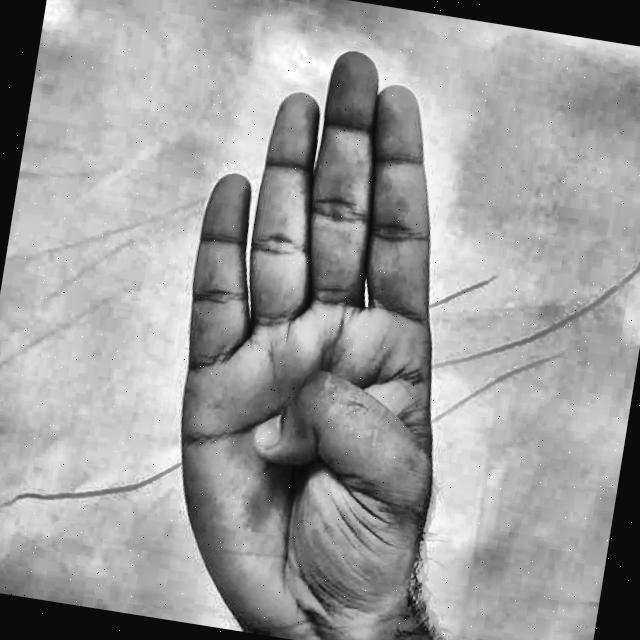Ba: (87, 9, 551, 640)
